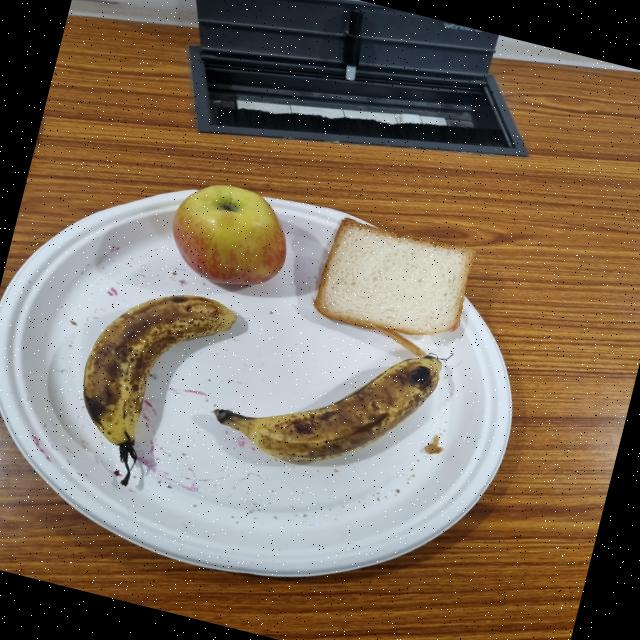apple: (164, 185, 284, 291)
banana: (219, 356, 439, 464), (81, 295, 235, 445)
